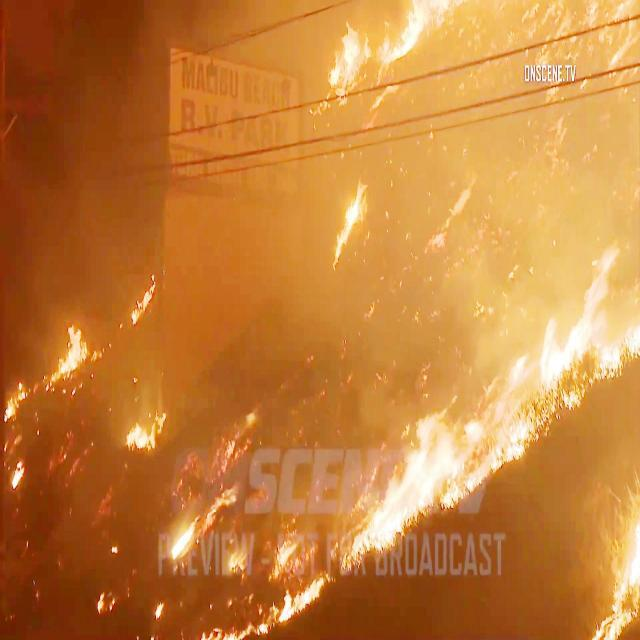Fire: (538, 236, 624, 376), (385, 399, 488, 511), (324, 1, 422, 76), (601, 482, 640, 640), (56, 320, 98, 388)
